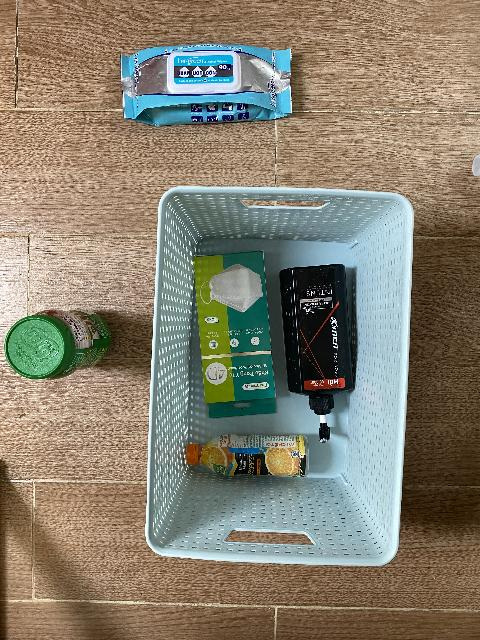4D_medical_face-mask: (193, 251, 277, 419)
Let-green_alcohol_wipes: (119, 43, 292, 126)
X-men: (278, 263, 353, 443)
cart: (145, 186, 415, 569)
milo: (4, 309, 112, 382)
teppy_orange_juice: (186, 434, 310, 477)
